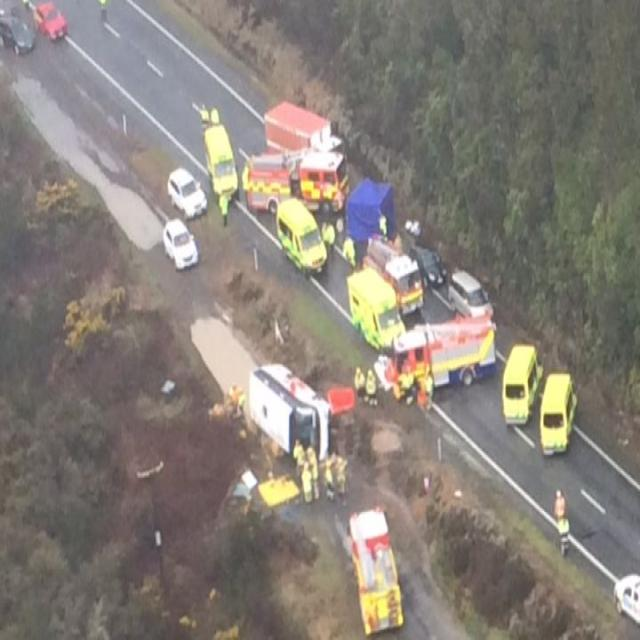traffic_incident: (375, 306, 499, 428), (245, 346, 335, 484)
